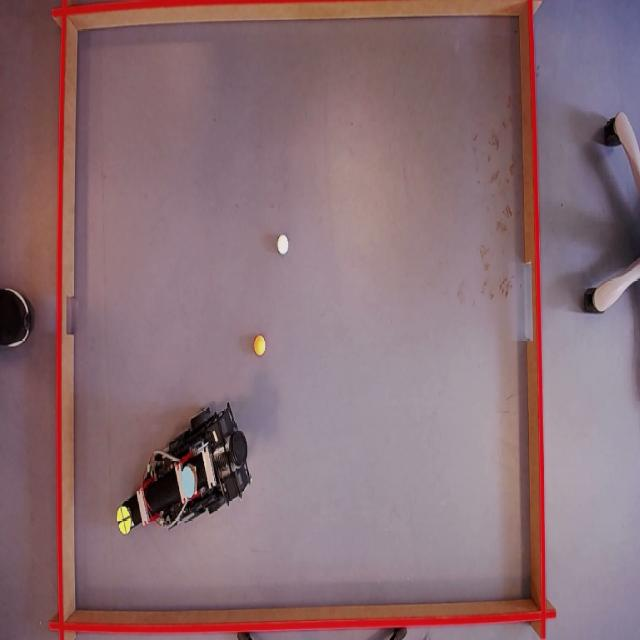orange: (254, 336, 268, 356)
robot: (109, 406, 254, 537)
robot-front: (116, 504, 131, 536)
robot-rear: (181, 465, 196, 499)
white: (276, 234, 288, 255)
